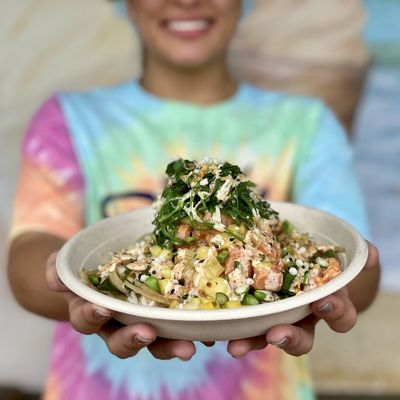pizza: (3, 2, 388, 393)
